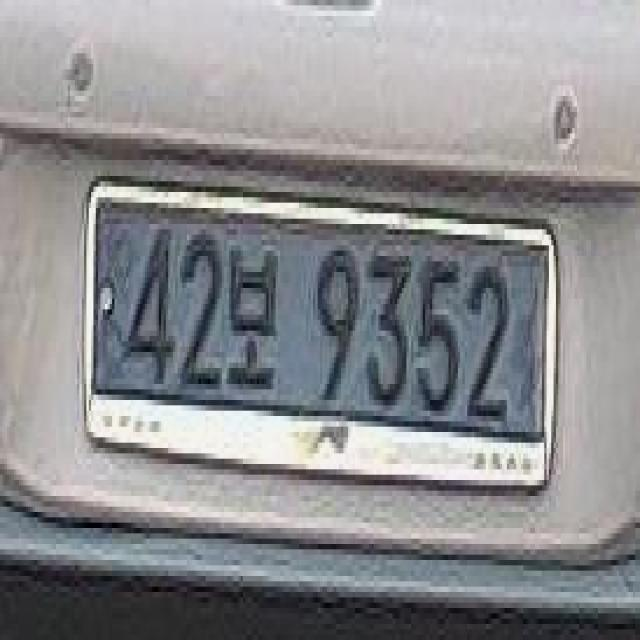EV_plate: (86, 150, 556, 507)
